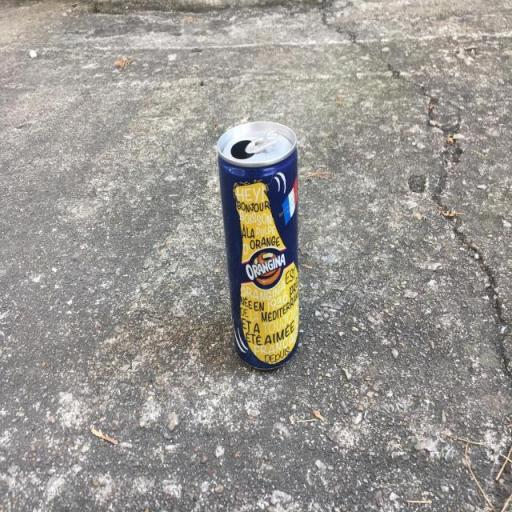metal: (190, 87, 342, 402)
